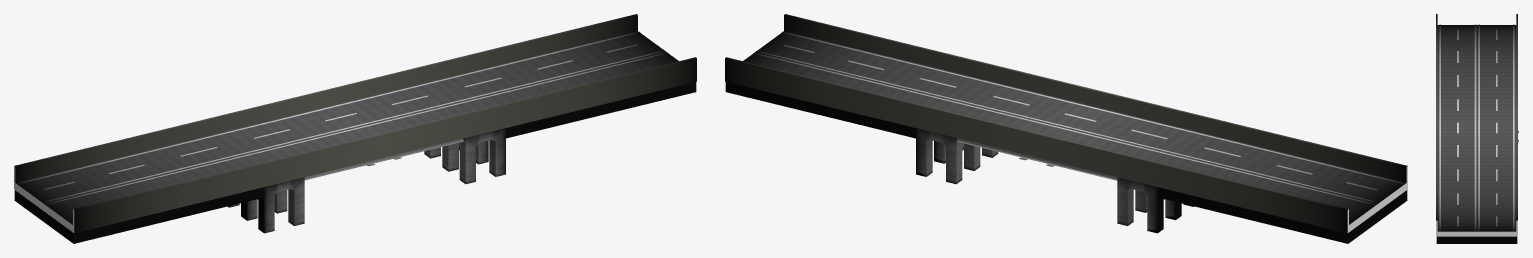
The model's file is RIKKYO02.glb.
The picture shows the model from 3 angles, left to right: view 1: azimuth 30°, elevation 25°; view 2: azimuth 150°, elevation 25°; view 3: azimuth 270°, elevation 25°; orthographic projection. The views are drawn at different scales.
Parts seen in each view (by area): view 1: obj49; view 2: obj49; view 3: obj49.
Boxes of the visible parts, x1=… form: obj49: x1=14, y1=14, x2=696, y2=243; obj49: x1=725, y1=14, x2=1407, y2=243; obj49: x1=1436, y1=14, x2=1518, y2=243.
Size of the model in its own units: 299 by 32.31 by 50.74.
Materials: 6 (6 with a texture image).
